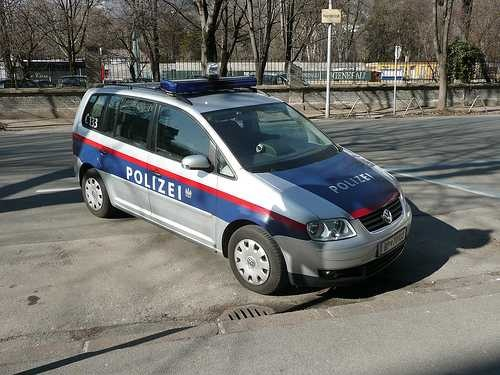Police Car: (61, 47, 439, 294)
